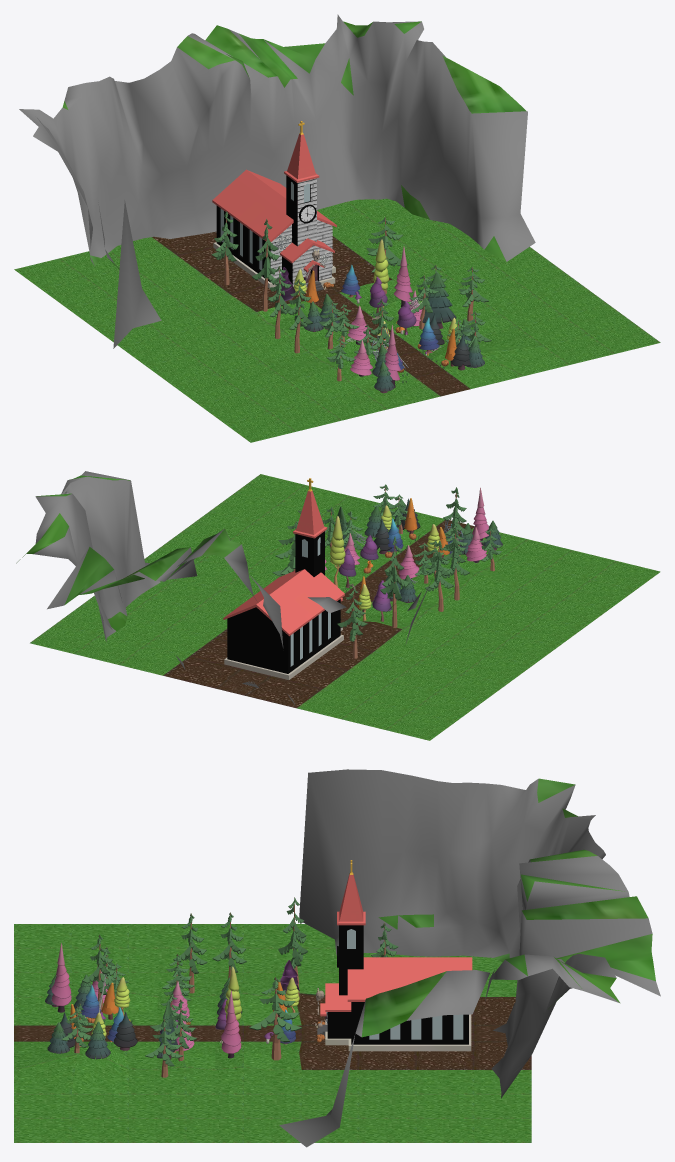
The model's file is Halloweenworld-transformed.glb.
3 renders of one model, top to bottom at view 1: azimuth 30°, elevation 25°; view 2: azimuth 150°, elevation 25°; view 3: azimuth 270°, elevation 25°, orthographic. The views are drawn at different scales.
Parts seen in each view (by area): view 1: Mountain, Spider_web.001; view 2: Mountain; view 3: Mountain.
Boxes of the visible parts, x1,y1,x2,y2 form: Mountain: (14, 14, 660, 442); Spider_web.001: (274, 234, 441, 368); Mountain: (16, 471, 660, 740); Mountain: (14, 769, 660, 1147).
Size of the model in its own units: 64.71 by 24.29 by 74.97.
3 materials, 3 textured.
